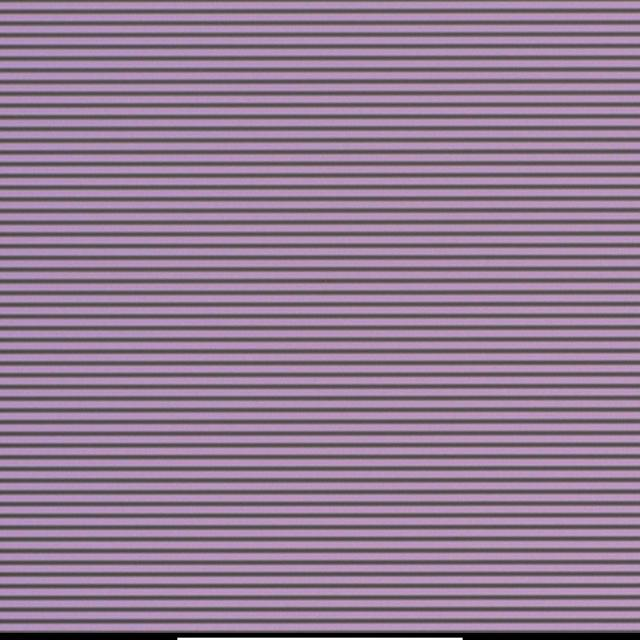03_intrusion: (318, 272, 331, 287)
